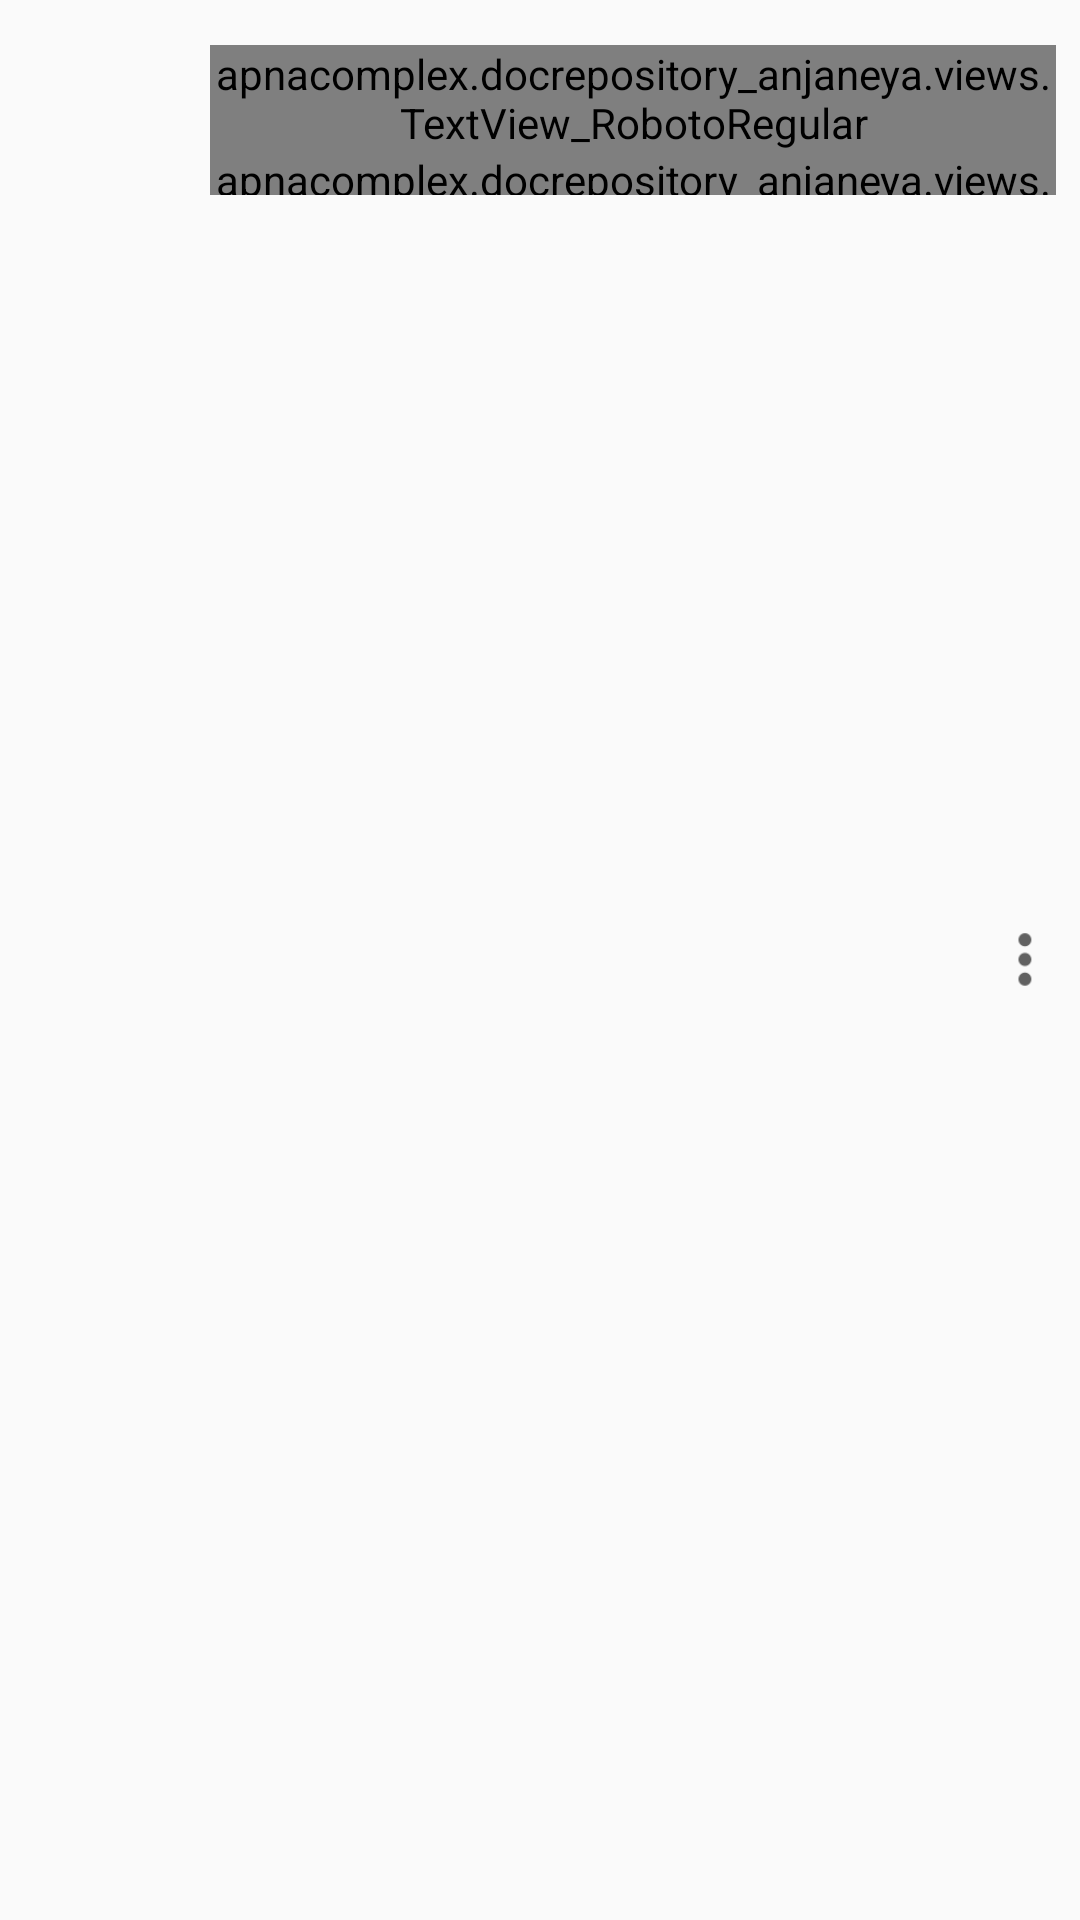

Icons on this 1080px×1920px Android screen, each with its box as (x1, y1, x2, y2):
moregrey: (1018, 933, 1032, 986)
